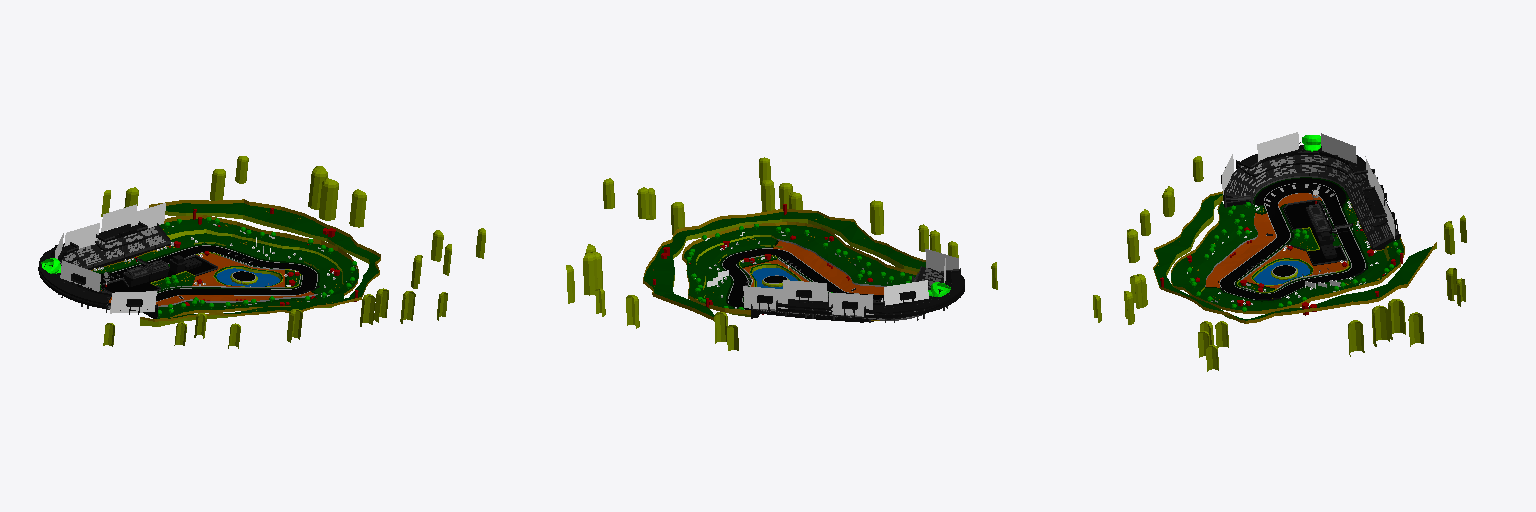
File: city.obj
3 renders of one model, left to right at view 1: azimuth 30°, elevation 25°; view 2: azimuth 150°, elevation 25°; view 3: azimuth 270°, elevation 25°, orthographic.
Visible parts, largest first — view 1: course; view 2: course; view 3: course.
Boxes of the visible parts, x1,y1,x2,y2 form: course: [38, 156, 485, 348]; course: [566, 157, 997, 350]; course: [1093, 132, 1466, 371].
Size of the model in its own units: 1235 by 209 by 1019.